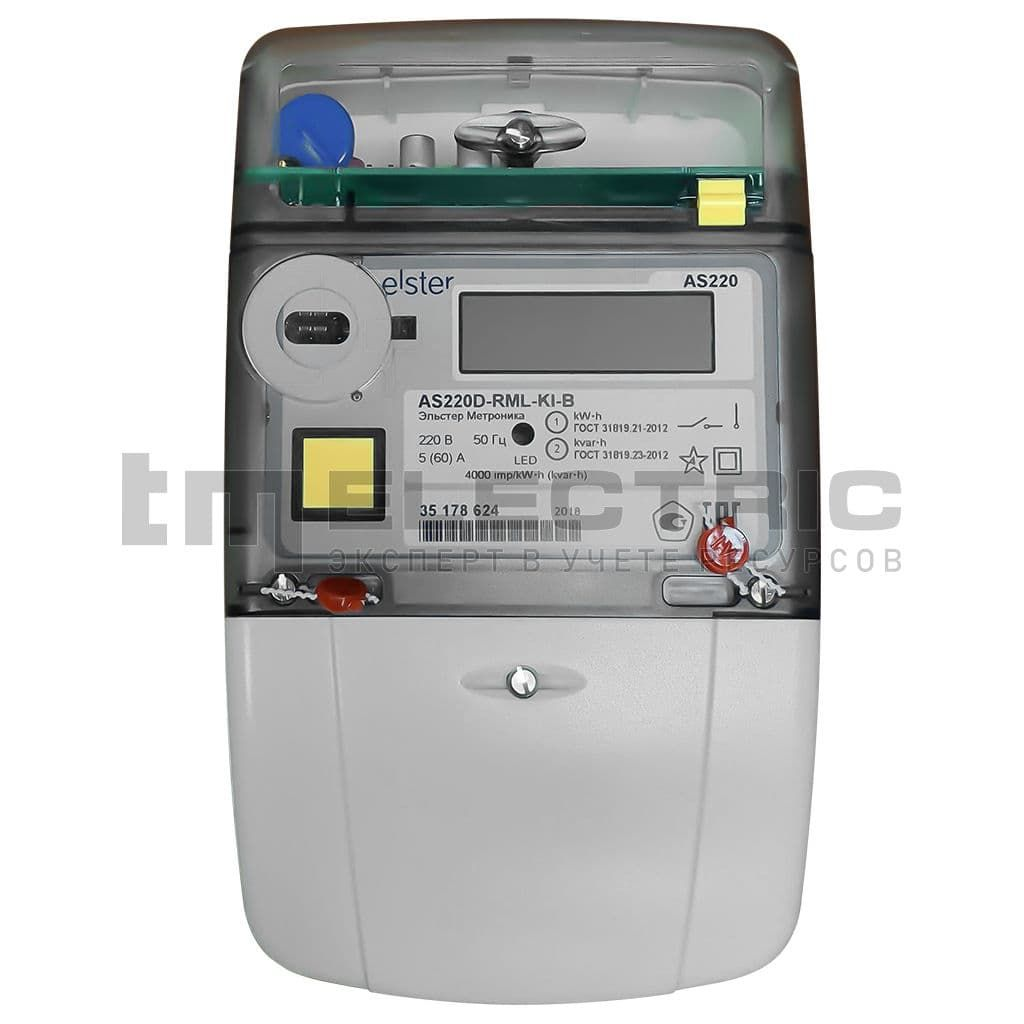counter: (217, 11, 826, 986)
counter_screen: (449, 278, 721, 384)
